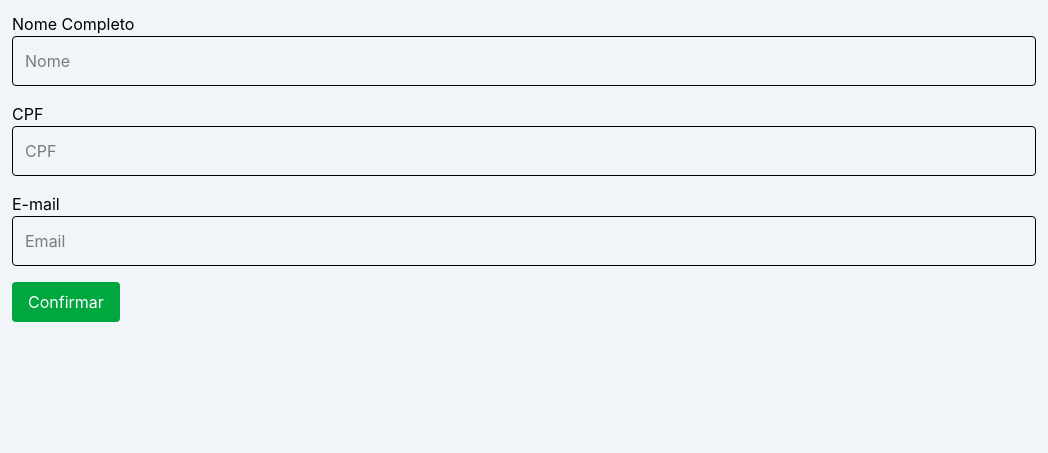
Test: PassengerForm › deve validar campos obrigatórios
Step 1. Click the button "Confirmar" → x=66, y=302, box left=12, top=282, right=120, bottom=322
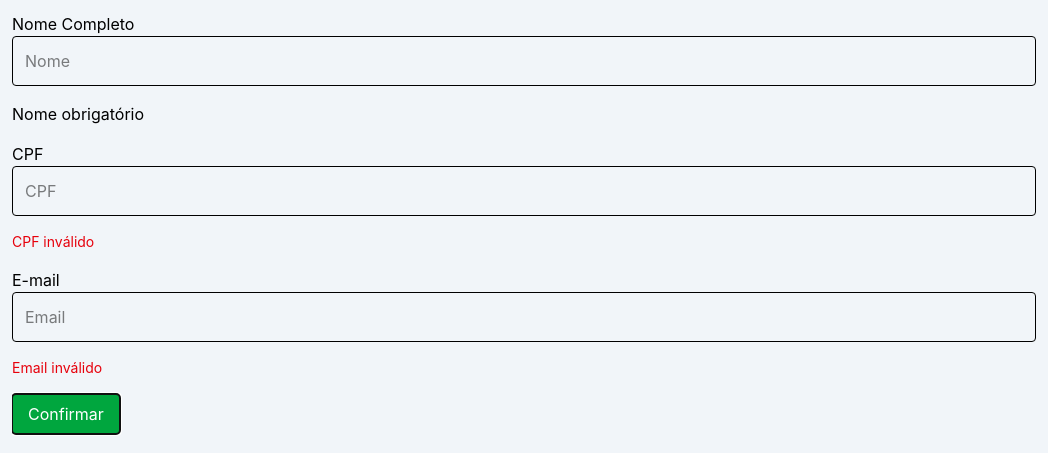
Expected: the text "Nome obrigatório" is shown, left=12, top=104, right=144, bottom=124
